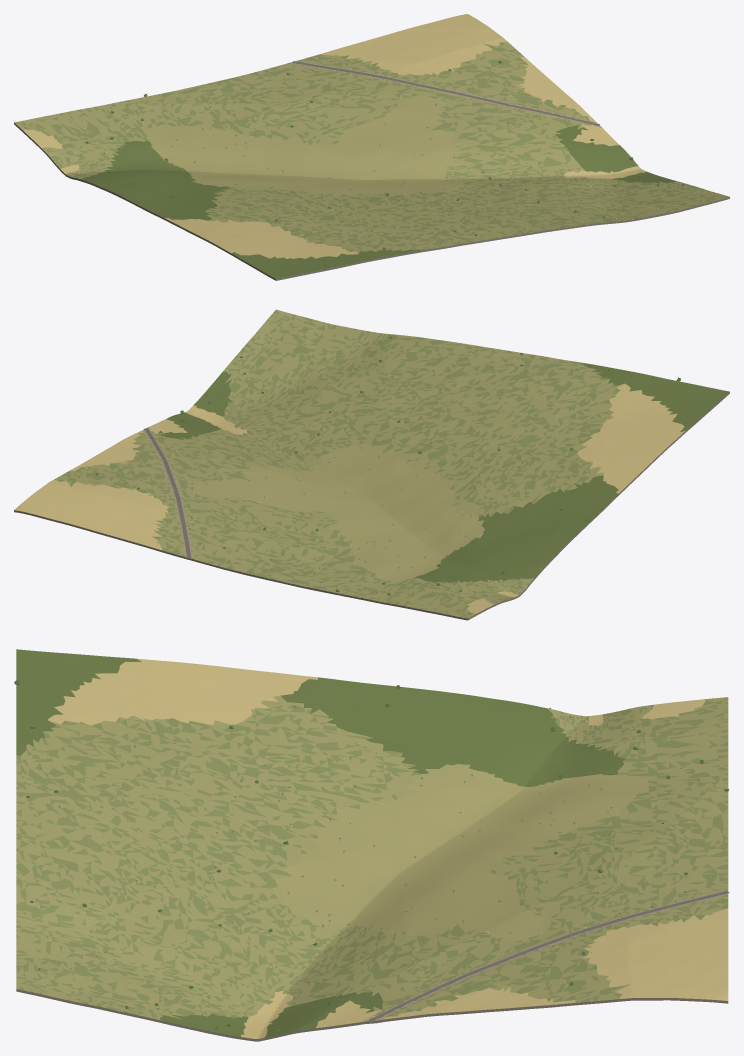
Rendered from parca_+11_-1-yakin.glb.
The picture shows the model from 3 angles, top to bottom: view 1: azimuth 30°, elevation 25°; view 2: azimuth 150°, elevation 25°; view 3: azimuth 270°, elevation 25°; orthographic projection. The views are drawn at different scales.
Parts seen in each view (by area): view 1: parca_+11_-1_arazi, parca_+11_-1_yollar, parca_+11_-1_bitkiler; view 2: parca_+11_-1_arazi, parca_+11_-1_bitkiler, parca_+11_-1_yollar; view 3: parca_+11_-1_arazi, parca_+11_-1_yollar, parca_+11_-1_bitkiler.
Part boxes in pixels (bbox=[...]): parca_+11_-1_arazi: bbox=[14, 14, 729, 280]; parca_+11_-1_yollar: bbox=[292, 61, 599, 125]; parca_+11_-1_bitkiler: bbox=[36, 58, 684, 268]; parca_+11_-1_arazi: bbox=[14, 309, 729, 620]; parca_+11_-1_bitkiler: bbox=[95, 328, 722, 600]; parca_+11_-1_yollar: bbox=[144, 428, 191, 558]; parca_+11_-1_arazi: bbox=[16, 649, 728, 1041]; parca_+11_-1_yollar: bbox=[368, 891, 729, 1021]; parca_+11_-1_bitkiler: bbox=[14, 651, 729, 1032].
Bounding box in the file's own units: 1003 × 146 × 1006.
